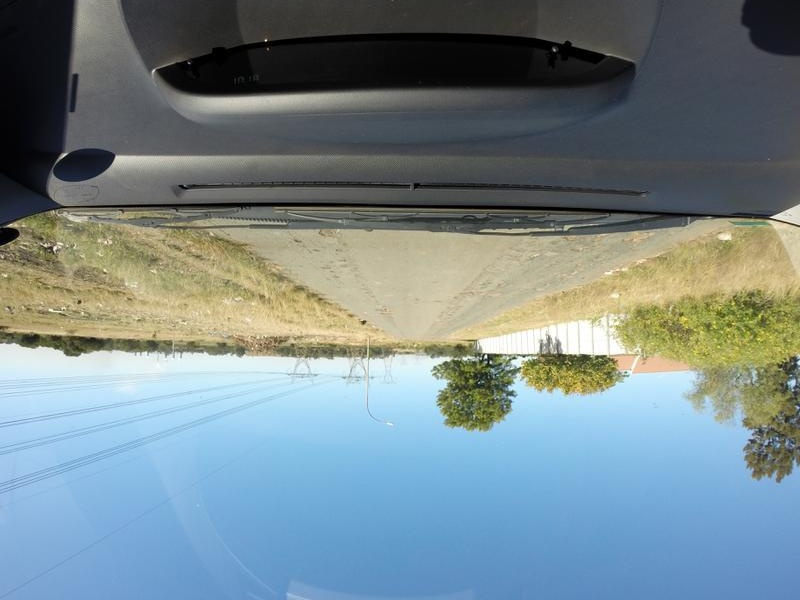pothole: (624, 232, 651, 252), (521, 251, 543, 265), (564, 231, 587, 244), (319, 228, 343, 239), (553, 274, 577, 285), (460, 291, 488, 296), (378, 308, 393, 316), (570, 247, 587, 252), (290, 239, 303, 243)
